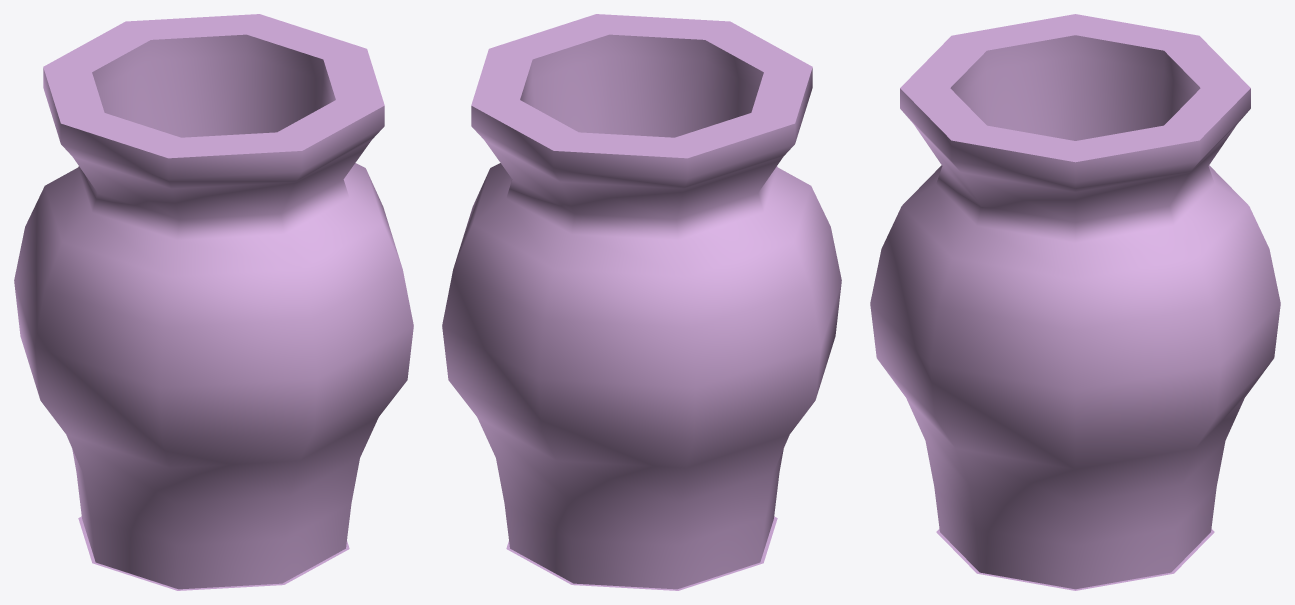
File: Vase.fbx
3 renders of one model, left to right at view 1: azimuth 30°, elevation 25°; view 2: azimuth 150°, elevation 25°; view 3: azimuth 270°, elevation 25°, orthographic.
Visible parts, largest first — view 1: Cylinder.001; view 2: Cylinder.001; view 3: Cylinder.001.
Part boxes in pixels (x1,y1,x2,y2): Cylinder.001: (14, 14, 413, 590); Cylinder.001: (442, 14, 841, 590); Cylinder.001: (870, 14, 1280, 590).
Size of the model in its own units: 236 by 281 by 236.
